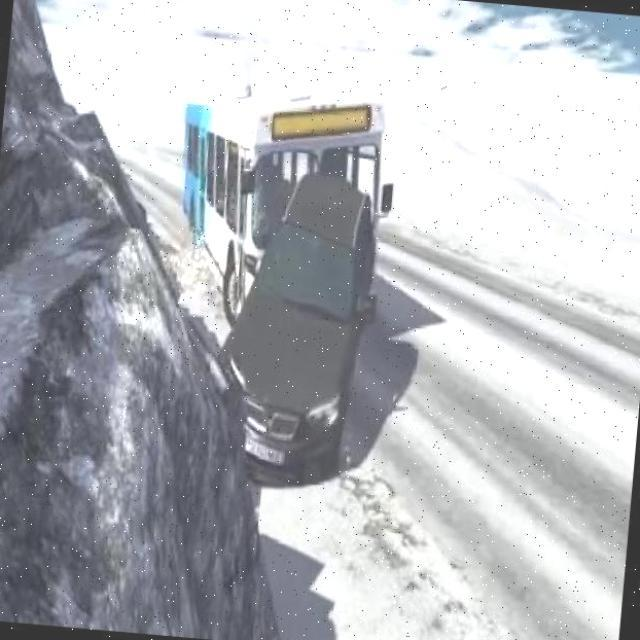accident: (84, 269, 376, 517), (186, 138, 414, 364)
